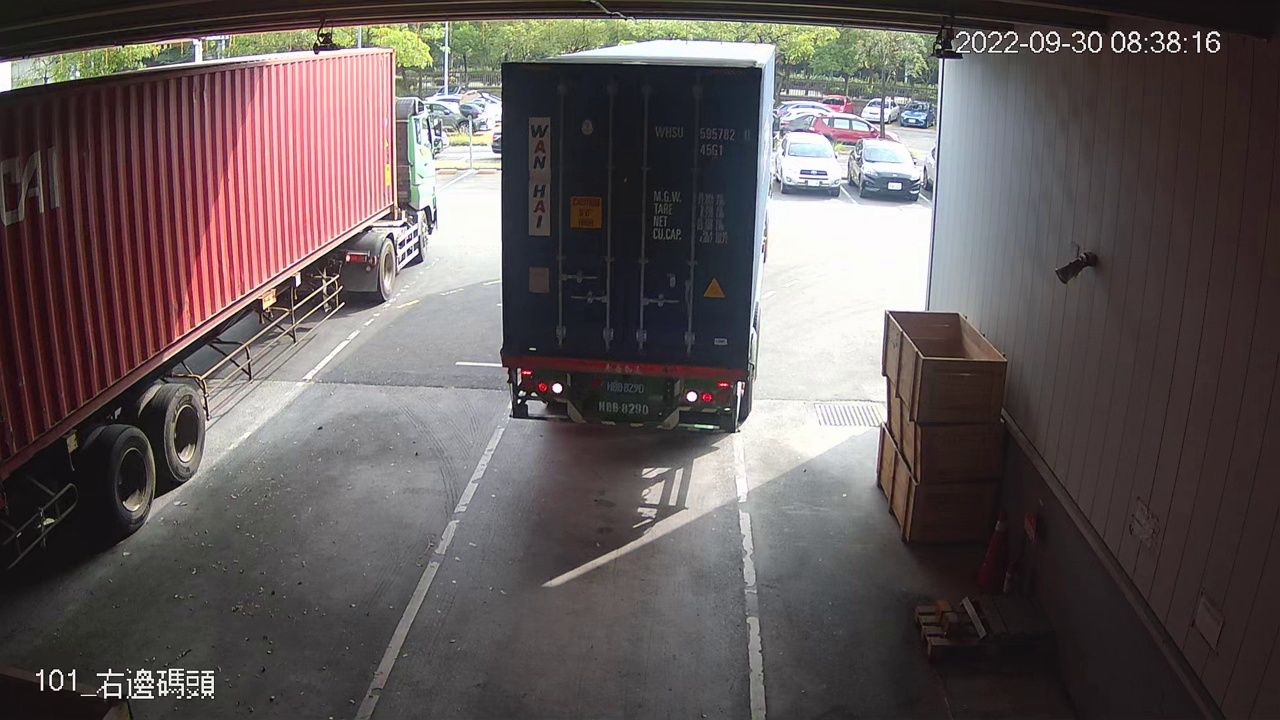container: (650, 116, 756, 160)
